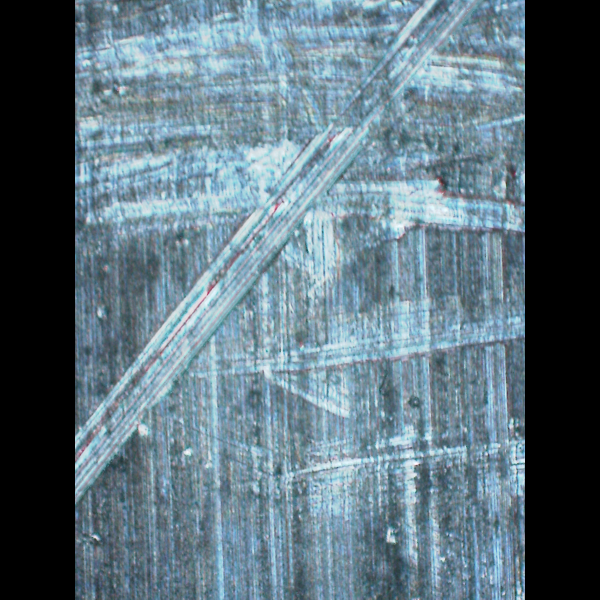d: (75, 1, 522, 237), (214, 288, 521, 545), (75, 266, 241, 518)
